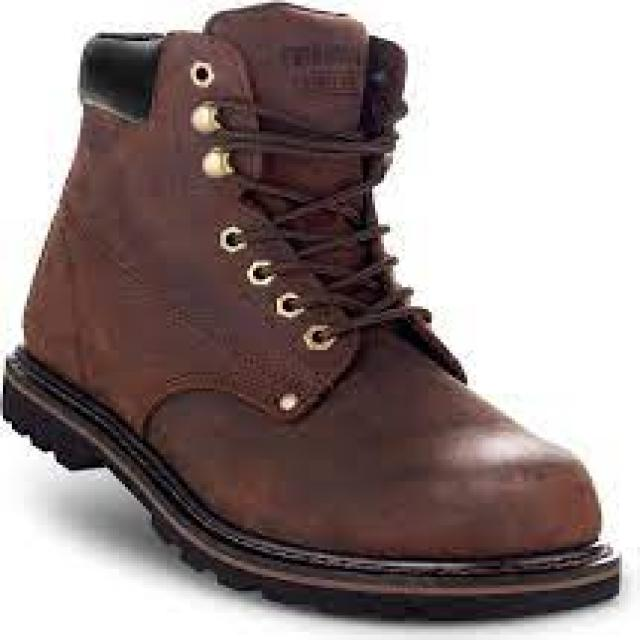shoes: (5, 4, 619, 618)
